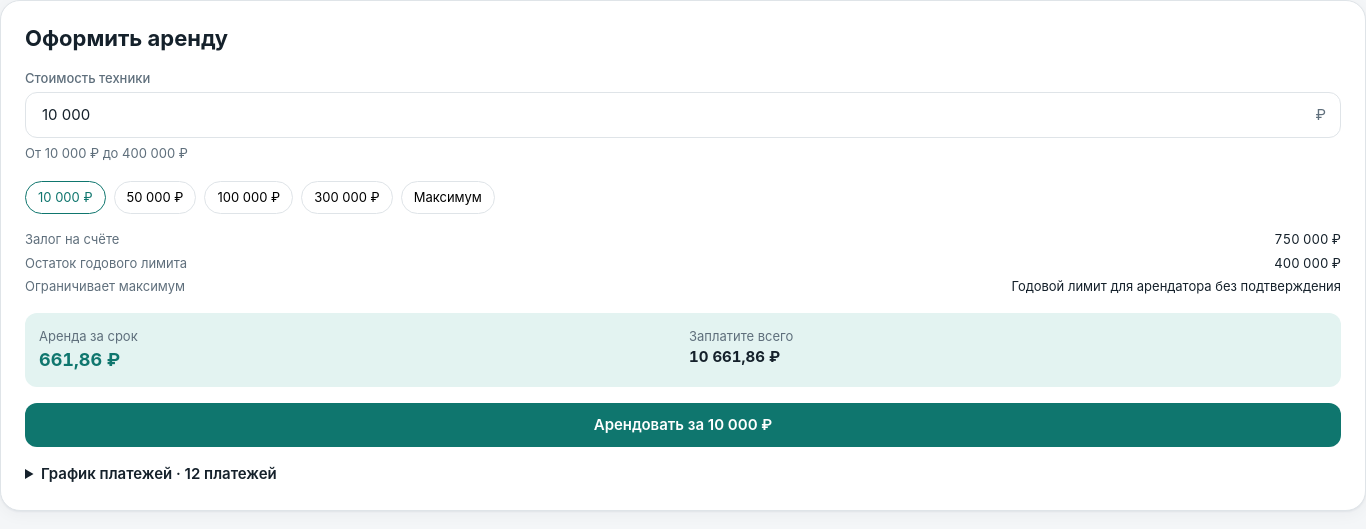
Test: RentPanel › сумма сверх годового лимита — ошибка и заблокированная кнопка
Replace the text in the field labelled "Стоимость техники ₽ От 10 000 ₽ до 400 000 ₽" with "500000" at (678, 115), box [40, 103, 1316, 127]
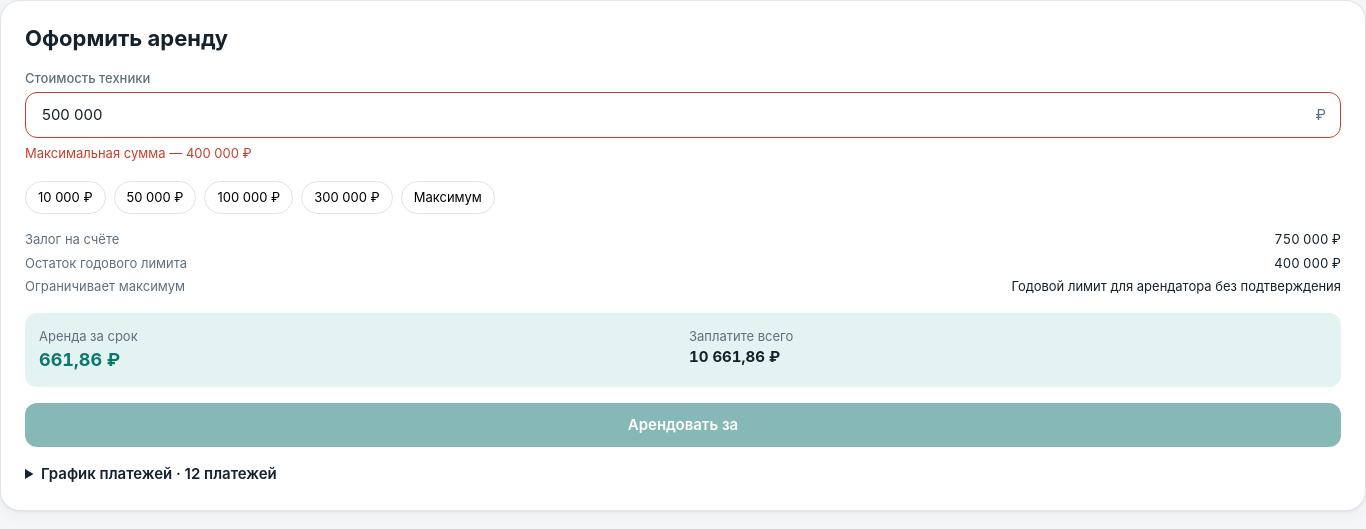
Expected: the field labelled "Стоимость техники ₽ Максимальная сумма — 400 000 ₽" holds "500 000", [40, 103, 1316, 127]
Expected: the message "Максимальная сумма — 400 000 ₽" is shown, [25, 145, 252, 161]
Expected: the submit button is disabled, [25, 403, 1341, 447]
